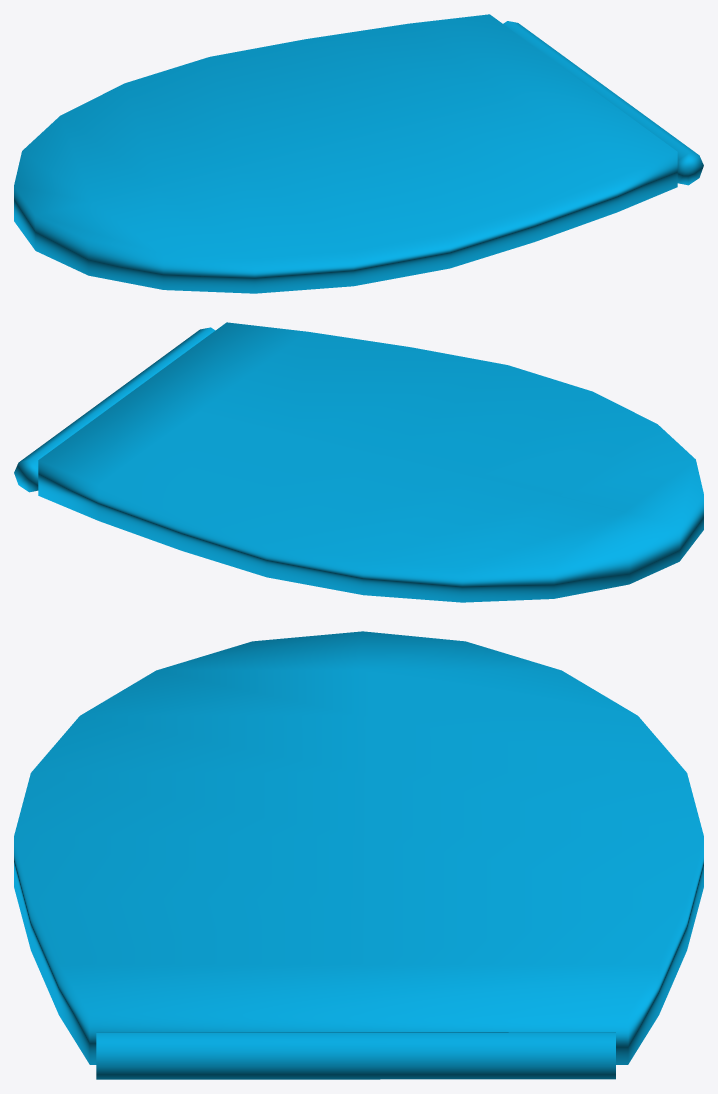
Rendered from Wc_02_Seat_Top_Lod1.fbx.
The picture shows the model from 3 angles, top to bottom: view 1: azimuth 30°, elevation 25°; view 2: azimuth 150°, elevation 25°; view 3: azimuth 270°, elevation 25°; orthographic projection. The views are drawn at different scales.
Parts seen in each view (by area): view 1: Wc_02_Seat_Top_Lod1; view 2: Wc_02_Seat_Top_Lod1; view 3: Wc_02_Seat_Top_Lod1.
Part boxes in pixels (box(x1,y1,x2,y2)): Wc_02_Seat_Top_Lod1: box(14, 14, 703, 293); Wc_02_Seat_Top_Lod1: box(14, 322, 703, 602); Wc_02_Seat_Top_Lod1: box(14, 631, 703, 1079).
Size of the model in its own units: 46.91 by 3.01 by 33.96.
